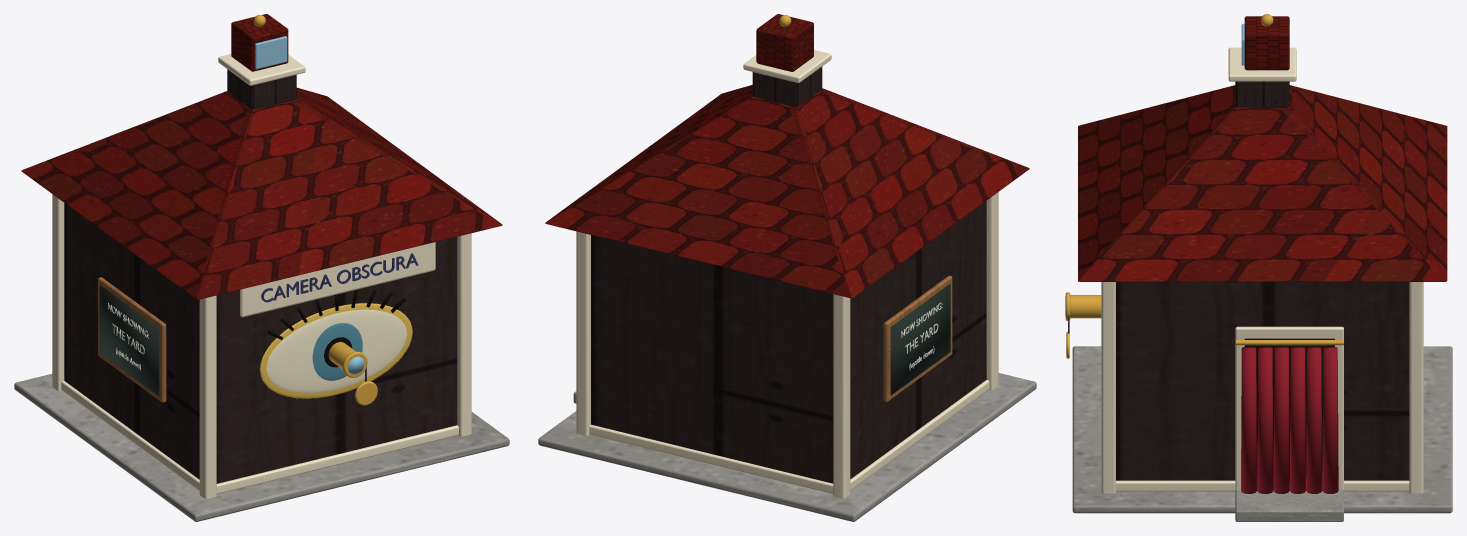
File: obscura.glb
3 views of the same model, side by side, from view 1: azimuth 30°, elevation 25°; view 2: azimuth 150°, elevation 25°; view 3: azimuth 270°, elevation 25° (orthographic). The views are drawn at different scales.
Visible parts, largest first — view 1: ob_roof, ob_body, ob_pad, ob_eye_white, ob_sign, ob_band, ob_chalkboard, ob_corner, ob_corner.002, ob_corner.001, ob_eye_lid, ob_hood (+6 smaller); view 2: ob_body, ob_roof, ob_pad, ob_band, ob_chalkboard, ob_corner.001, ob_corner.003, ob_hood, ob_corner, ob_cupola, ob_chalkframe, ob_cupola_cap; view 3: ob_roof, ob_body, ob_pad, ob_doorframe, ob_step, ob_corner.002, ob_corner.003, ob_hood, ob_curtain.003, ob_curtain.001, ob_curtain.002, ob_curtain.004 (+8 smaller).
Part boxes in pixels (left/top/right/bottom): ob_roof: left=21, top=87, right=502, bottom=299; ob_body: left=64, top=203, right=457, bottom=483; ob_pad: left=14, top=374, right=509, bottom=521; ob_eye_white: left=266, top=309, right=406, bottom=392; ob_sign: left=240, top=242, right=435, bottom=317; ob_band: left=61, top=381, right=458, bottom=494; ob_chalkboard: left=99, top=285, right=159, bottom=395; ob_corner: left=199, top=295, right=216, bottom=498; ob_corner.002: left=457, top=233, right=471, bottom=436; ob_corner.001: left=52, top=194, right=64, bottom=390; ob_eye_lid: left=259, top=303, right=412, bottom=398; ob_hood: left=231, top=14, right=288, bottom=71; ob_body: left=591, top=201, right=986, bottom=483; ob_roof: left=545, top=85, right=1029, bottom=298; ob_pad: left=538, top=373, right=1036, bottom=521; ob_band: left=589, top=380, right=989, bottom=493; ob_chalkboard: left=890, top=283, right=950, bottom=395; ob_corner.001: left=833, top=294, right=850, bottom=498; ob_corner.003: left=576, top=231, right=590, bottom=436; ob_hood: left=756, top=14, right=813, bottom=71; ob_corner: left=986, top=192, right=998, bottom=390; ob_cupola: left=752, top=66, right=822, bottom=106; ob_chalkframe: left=883, top=275, right=952, bottom=401; ob_cupola_cap: left=743, top=50, right=831, bottom=82; ob_roof: left=1078, top=85, right=1447, bottom=281; ob_body: left=1116, top=282, right=1409, bottom=480; ob_pad: left=1072, top=346, right=1452, bottom=513; ob_doorframe: left=1235, top=326, right=1343, bottom=489; ob_step: left=1235, top=489, right=1343, bottom=521; ob_corner.002: left=1101, top=282, right=1115, bottom=493; ob_corner.003: left=1409, top=282, right=1423, bottom=493; ob_hood: left=1244, top=16, right=1289, bottom=70; ob_curtain.003: left=1289, top=347, right=1305, bottom=493; ob_curtain.001: left=1257, top=347, right=1273, bottom=493; ob_curtain.002: left=1273, top=347, right=1289, bottom=493; ob_curtain.004: left=1306, top=347, right=1322, bottom=493.
Bounding box in the file's own units: 4.42 × 5.11 × 4.28.
Materials: 16 (4 with a texture image).
